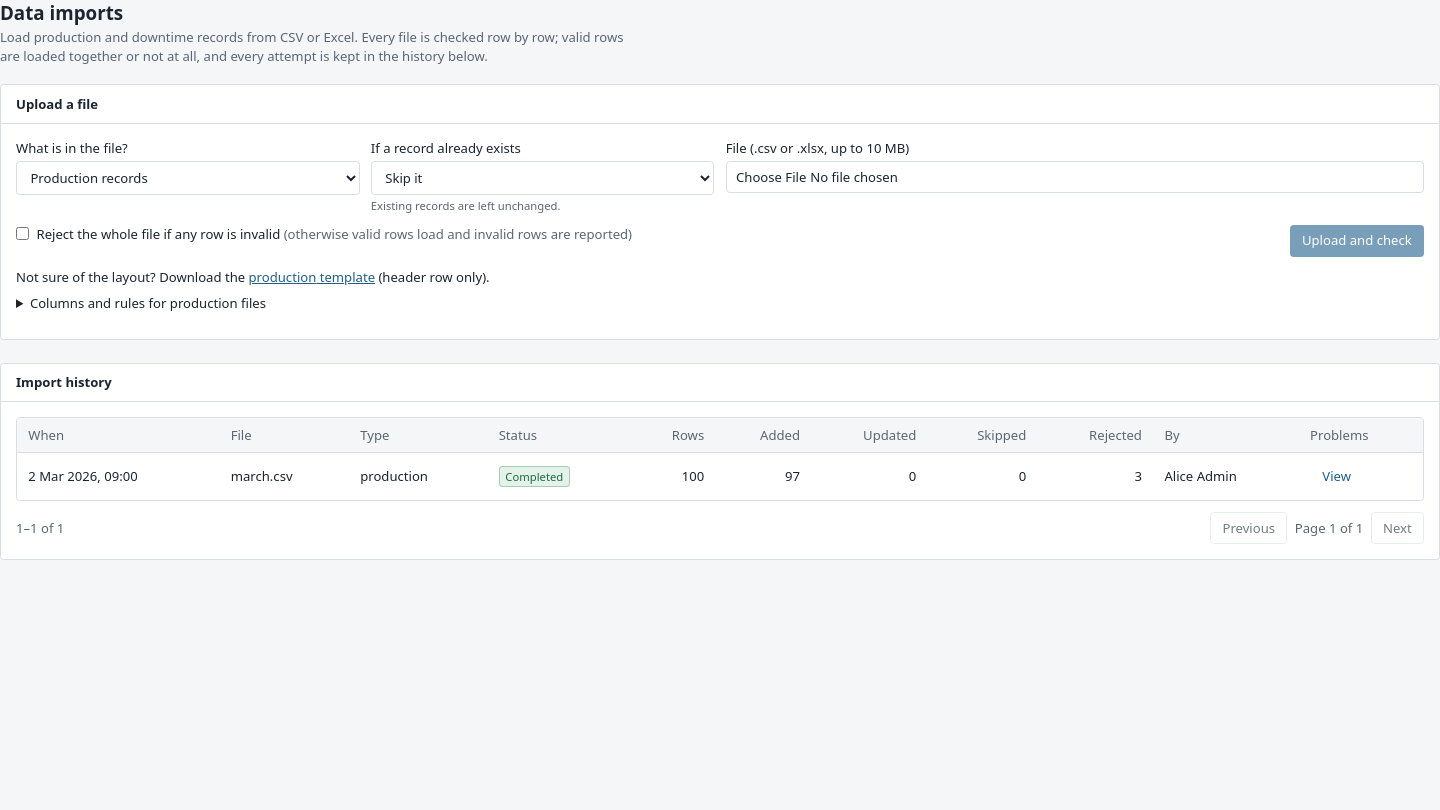
ImportsPage › opens the stored row problems for a batch
Click the button with aria-label "View problems for march.csv". click: (1337, 476)
box: 1310,460 -> 1363,492
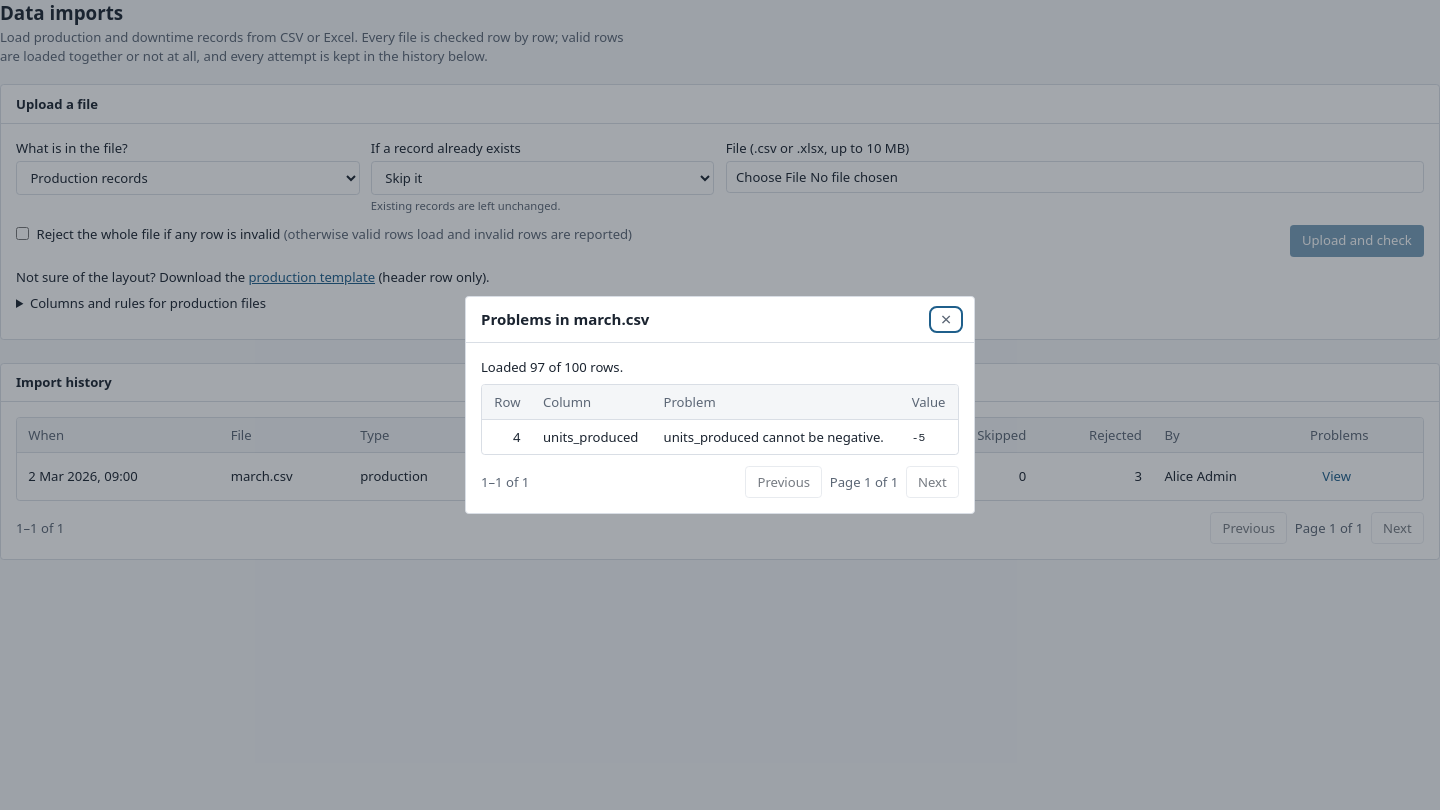
Expected: the table named "Problems found in this file" is shown, 482,385 -> 958,454
Expected: the text "units_produced cannot be negative." is shown, 664,428 -> 889,446
